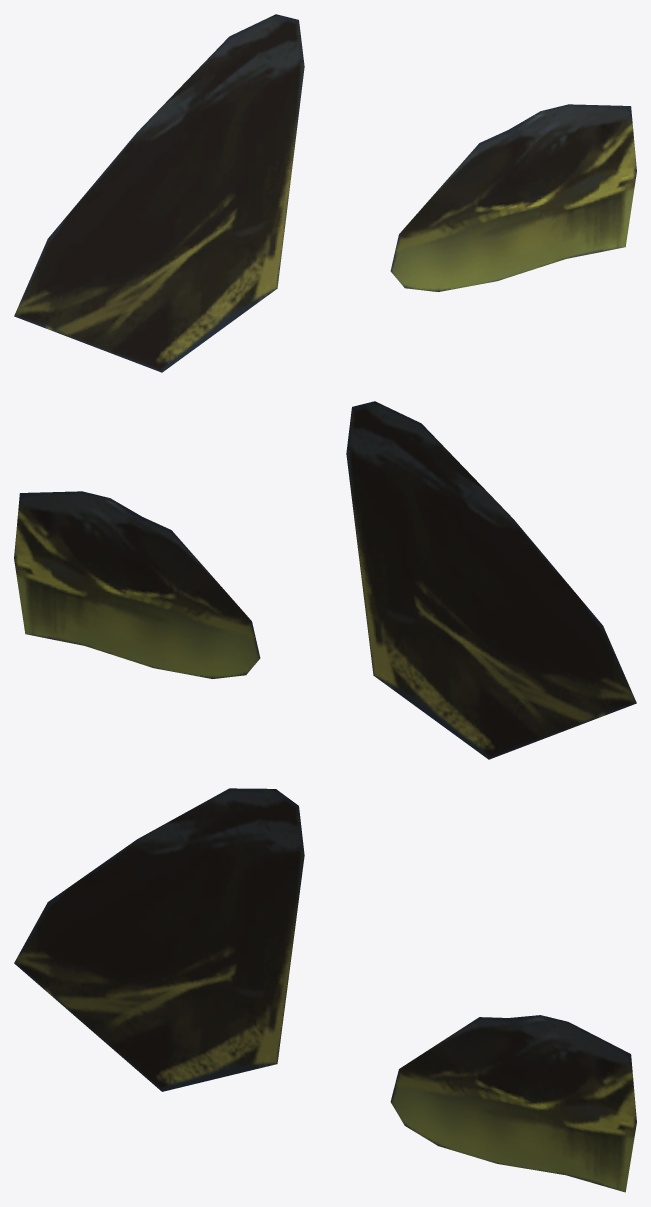
Rendered from H_Dungeon_Wangzhiyiji_D_stone001.FBX.
3 renders of one model, top to bottom at view 1: azimuth 30°, elevation 25°; view 2: azimuth 150°, elevation 25°; view 3: azimuth 330°, elevation 25°, orthographic.
Visible parts, largest first — view 1: H_Dungeon_Wangzhiyiji_D_stone001; view 2: H_Dungeon_Wangzhiyiji_D_stone001; view 3: H_Dungeon_Wangzhiyiji_D_stone001.
Part boxes in pixels (bbox=[...]): H_Dungeon_Wangzhiyiji_D_stone001: bbox=[14, 14, 636, 372]; H_Dungeon_Wangzhiyiji_D_stone001: bbox=[14, 401, 636, 759]; H_Dungeon_Wangzhiyiji_D_stone001: bbox=[14, 788, 636, 1192].
Size of the model in its own units: 4 by 2.03 by 2.75e-06.
